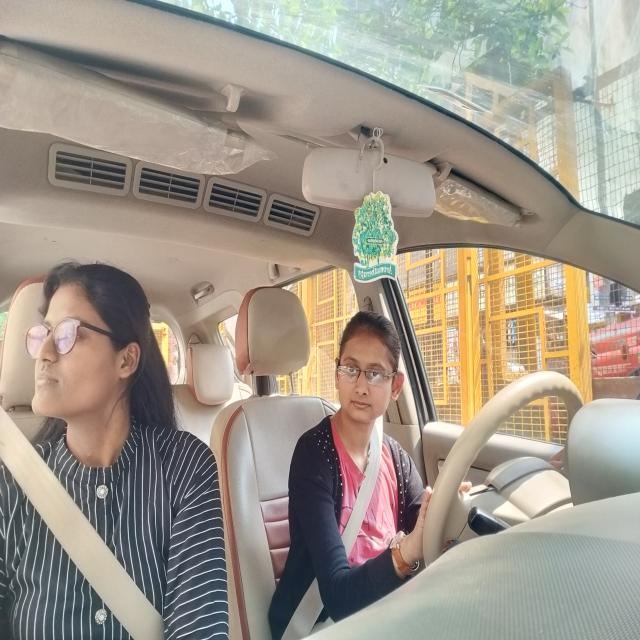LeftRight: (328, 309, 411, 429)
person: (28, 263, 150, 422)
